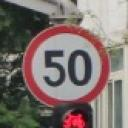speed_limit_50: (23, 26, 110, 107)
